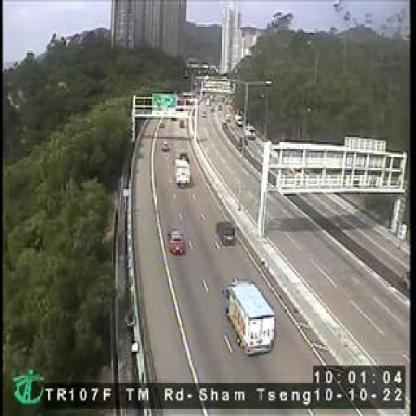Car: (218, 220, 238, 245), (168, 227, 185, 254), (163, 142, 171, 153)
Truck: (223, 278, 276, 357), (175, 158, 192, 186)
